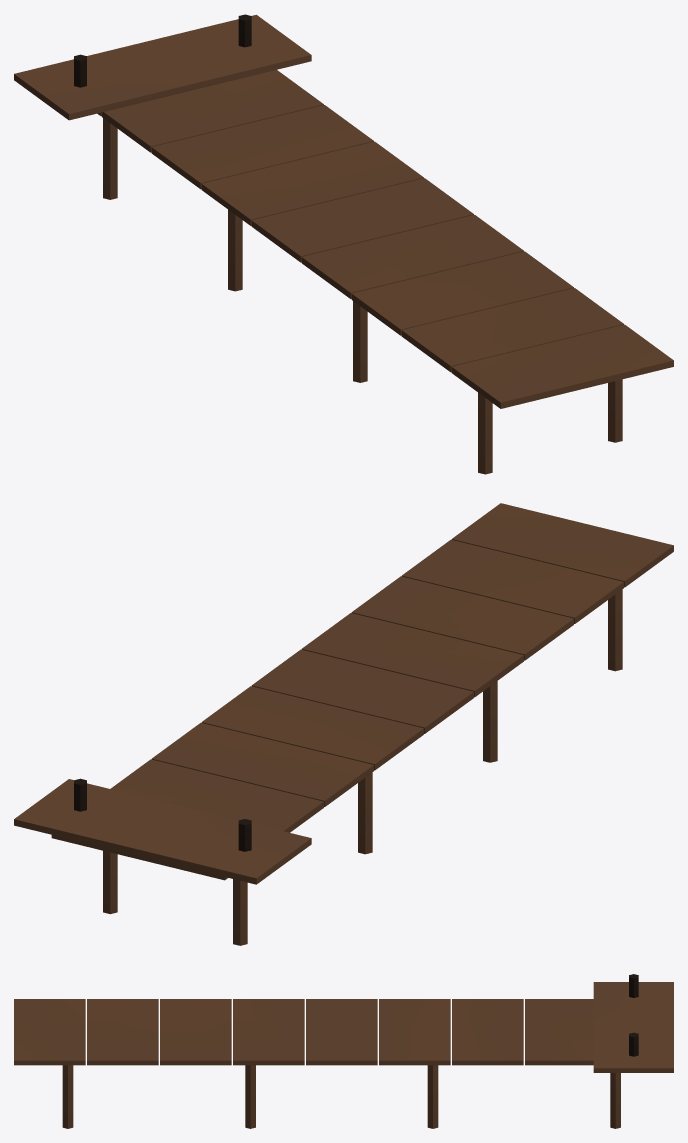
Rendered from republic_pier_lod0.glb.
The picture shows the model from 3 angles, top to bottom: view 1: azimuth 30°, elevation 25°; view 2: azimuth 150°, elevation 25°; view 3: azimuth 270°, elevation 25°; orthographic projection. The views are drawn at different scales.
Visible parts, largest first — view 1: GEO-Arch_republic_pier_LOD0; view 2: GEO-Arch_republic_pier_LOD0; view 3: GEO-Arch_republic_pier_LOD0.
Boxes of the visible parts, box(x1,y1,x2,y2) form: GEO-Arch_republic_pier_LOD0: box(14, 14, 673, 474); GEO-Arch_republic_pier_LOD0: box(14, 503, 673, 945); GEO-Arch_republic_pier_LOD0: box(14, 974, 673, 1128).
Size of the model in its own units: 5.6 by 2.95 by 18.08.
